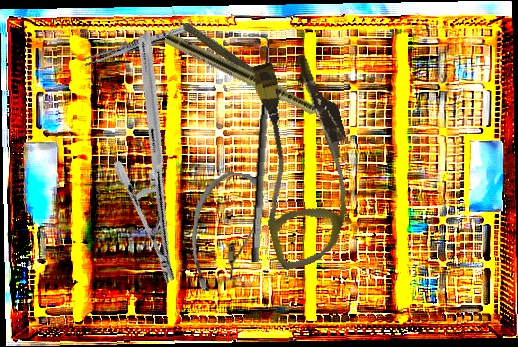Cannula: (227, 48, 376, 272), (185, 168, 267, 297)
Dressing Forceps: (82, 22, 192, 68)
Handpiece: (162, 30, 350, 134), (163, 5, 278, 92)
Hook Surgical: (232, 32, 278, 263)
Needle Holder: (39, 30, 275, 286)
